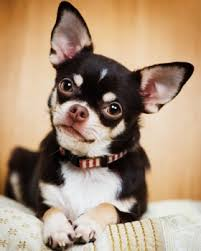chihuahua: (1, 2, 195, 249)
